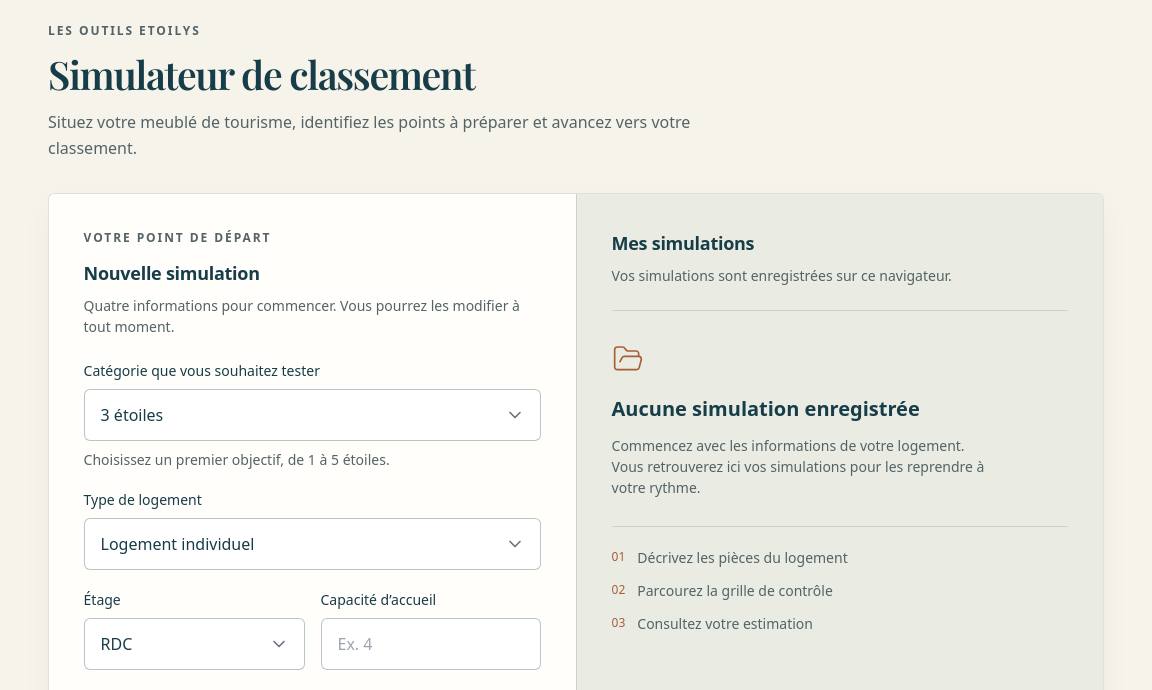
Test case: Simulateur public de classement › affiche un message dédié quand la limite de simulations publiques est atteinte
The image size is (1152, 690).
In the number field labelled "Capacité d’accueil": (431, 644) x1=320 y1=618 x2=542 y2=670, type "4"
(page scrolled)
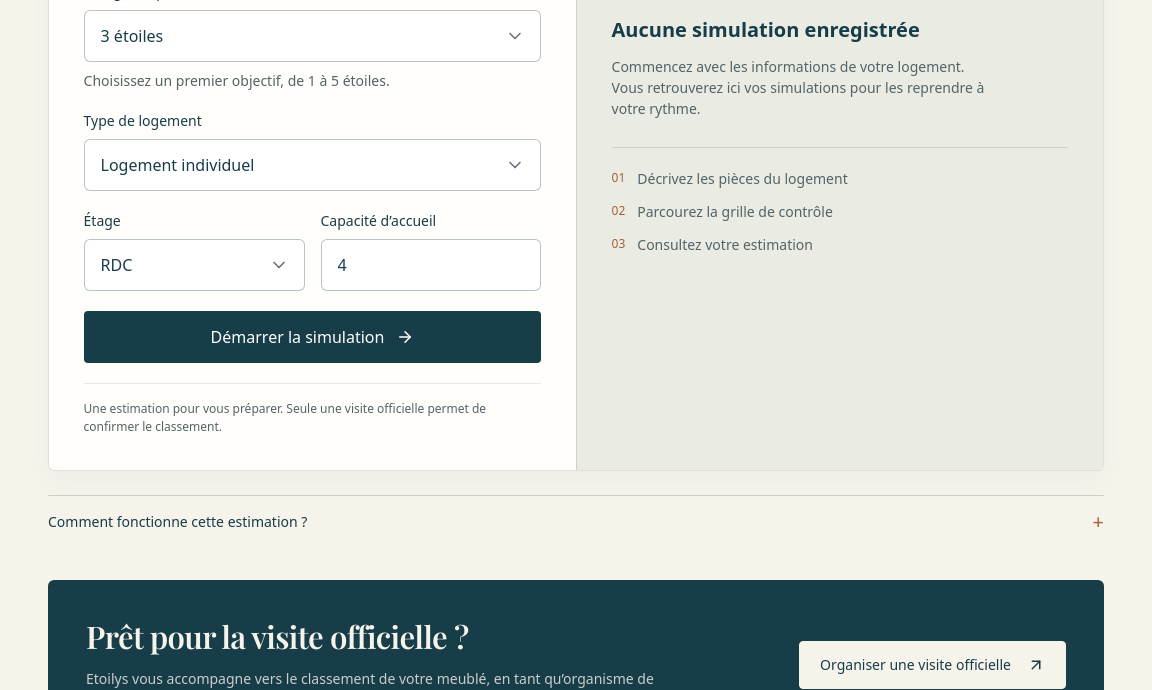
Click the button "Démarrer la simulation": (312, 337) x1=84 y1=311 x2=541 y2=363
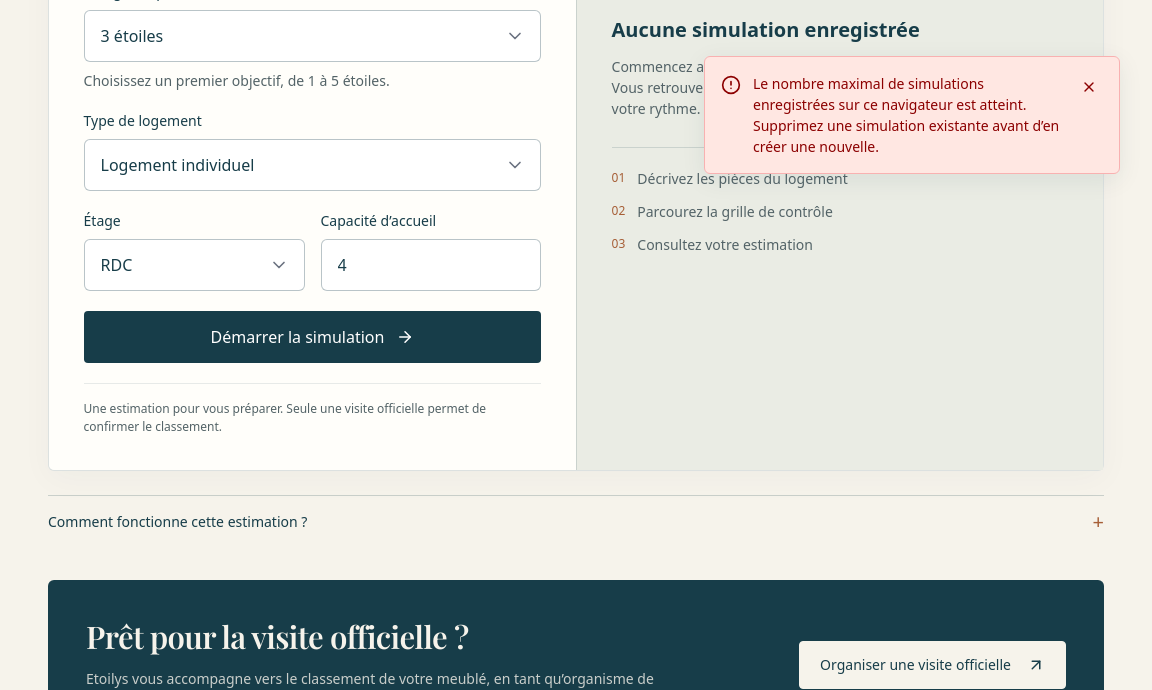
Expected: the text "nombre maximal de simulations" is shown, x1=753 y1=74 x2=1059 y2=156
